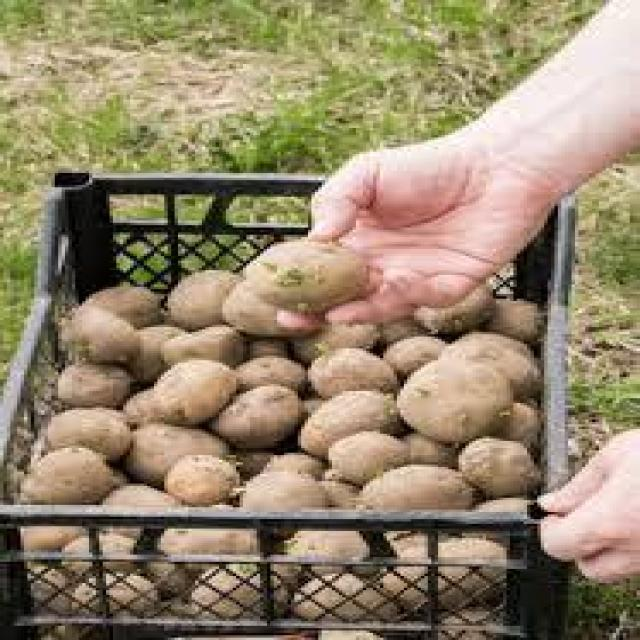potato: (442, 327, 538, 398), (147, 358, 236, 424), (452, 427, 534, 498), (212, 382, 298, 448), (318, 422, 411, 483), (161, 266, 250, 327), (34, 403, 127, 455), (226, 470, 332, 514), (226, 353, 311, 394)
